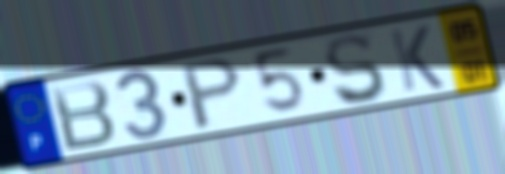3: (113, 65, 172, 146)
5: (247, 44, 308, 117)
B: (46, 78, 119, 155)
K: (386, 22, 448, 94)
P: (179, 55, 244, 135)
S: (322, 31, 390, 108)
